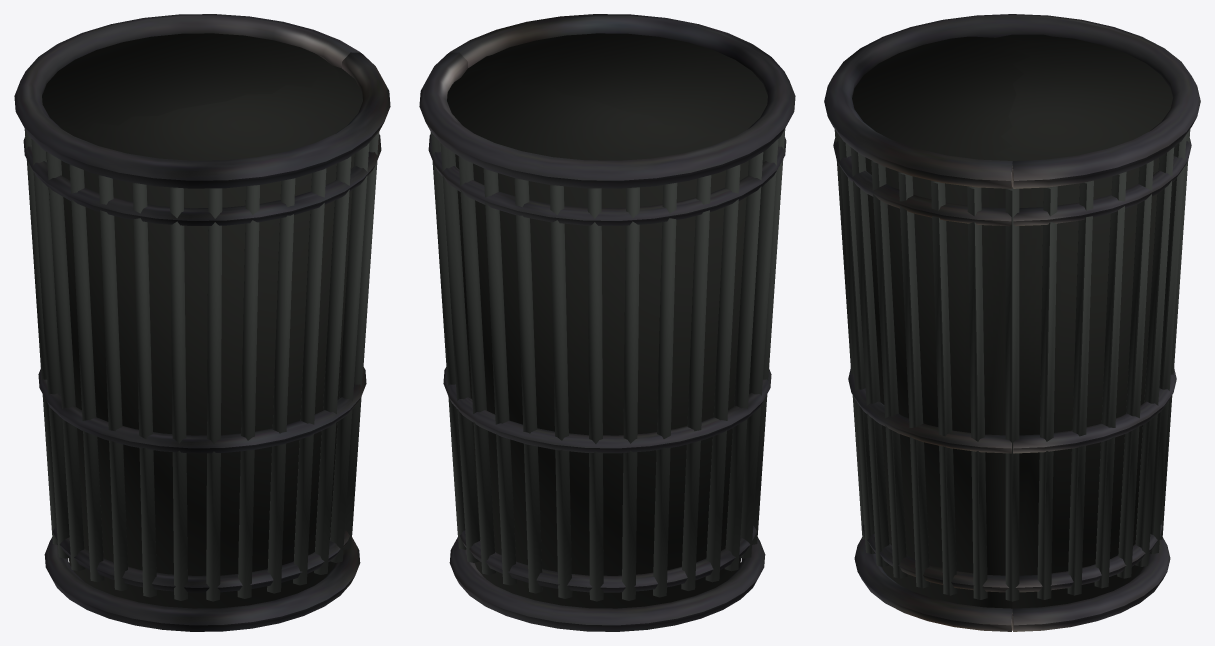
The model's file is avenue-bin.glb.
The picture shows the model from 3 angles, left to right: view 1: azimuth 30°, elevation 25°; view 2: azimuth 150°, elevation 25°; view 3: azimuth 270°, elevation 25°; orthographic projection.
Parts seen in each view (by area): view 1: Frame; view 2: Frame; view 3: Frame.
Part boxes in pixels (left/top/right/bottom): Frame: left=14, top=14, right=390, bottom=631; Frame: left=419, top=14, right=795, bottom=631; Frame: left=824, top=14, right=1200, bottom=631.
Size of the model in its own units: 0.6579 by 0.9258 by 0.658.
Materials: 3 (1 with a texture image).
